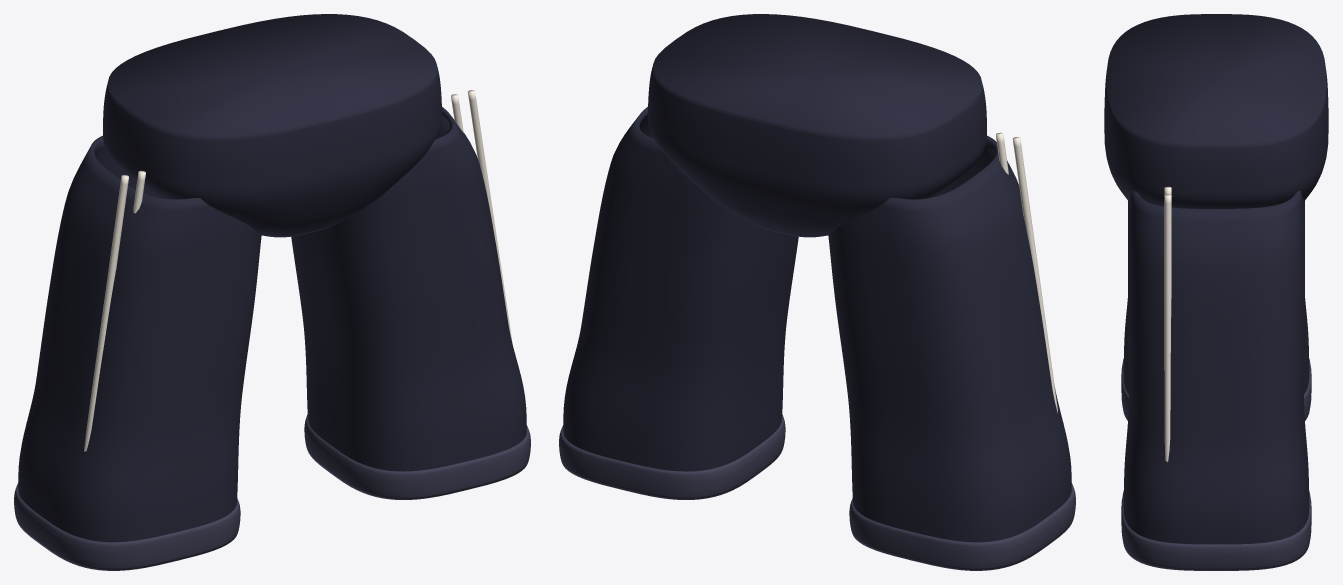
Rendered from coach_track_pants.glb.
The picture shows the model from 3 angles, left to right: view 1: azimuth 30°, elevation 25°; view 2: azimuth 150°, elevation 25°; view 3: azimuth 270°, elevation 25°; orthographic projection. The views are drawn at different scales.
Visible parts, largest first — view 1: coach_track_pants__leg_r, coach_track_pants__hips, coach_track_pants__leg_l, coach_track_pants__hem_r, coach_track_pants__hem_l, coach_track_pants__stripe_r_0, coach_track_pants__stripe_l_0; view 2: coach_track_pants__leg_r, coach_track_pants__hips, coach_track_pants__leg_l, coach_track_pants__hem_r, coach_track_pants__hem_l, coach_track_pants__stripe_r_0; view 3: coach_track_pants__leg_l, coach_track_pants__hips, coach_track_pants__hem_l, coach_track_pants__stripe_l_0, coach_track_pants__leg_r, coach_track_pants__hem_r.
Part boxes in pixels (<box>): coach_track_pants__leg_r: <box>18,135,261,542</box>; coach_track_pants__hips: <box>103,14,441,237</box>; coach_track_pants__leg_l: <box>291,107,526,471</box>; coach_track_pants__hem_r: <box>14,483,240,570</box>; coach_track_pants__hem_l: <box>304,414,530,499</box>; coach_track_pants__stripe_r_0: <box>84,175,128,451</box>; coach_track_pants__stripe_l_0: <box>468,90,512,343</box>; coach_track_pants__leg_r: <box>828,135,1071,542</box>; coach_track_pants__hips: <box>648,14,986,237</box>; coach_track_pants__leg_l: <box>563,107,798,471</box>; coach_track_pants__hem_r: <box>849,483,1075,570</box>; coach_track_pants__hem_l: <box>559,414,785,499</box>; coach_track_pants__stripe_r_0: <box>1012,137,1057,412</box>; coach_track_pants__leg_l: <box>1123,190,1309,544</box>; coach_track_pants__hips: <box>1104,14,1328,208</box>; coach_track_pants__hem_l: <box>1121,490,1311,570</box>; coach_track_pants__stripe_l_0: <box>1164,194,1171,461</box>; coach_track_pants__leg_r: <box>1123,201,1309,393</box>; coach_track_pants__hem_r: <box>1121,358,1311,420</box>.
Size of the model in its own units: 1.52 by 1.29 by 0.676.
